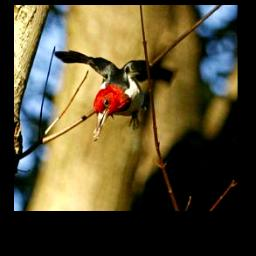Woodpecker: (47, 42, 176, 143)
